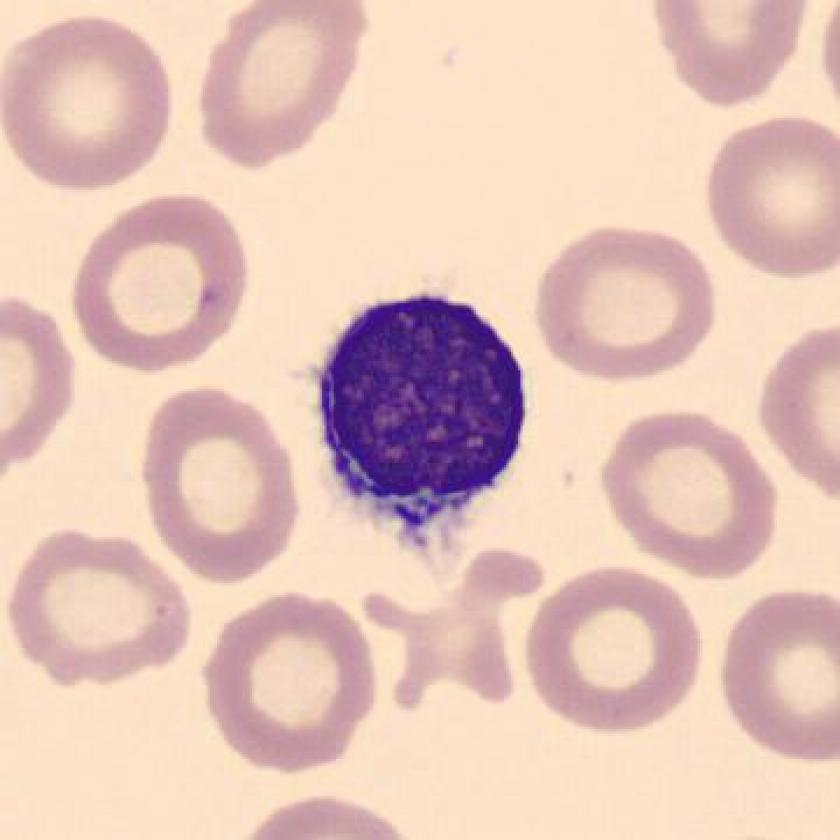lymphocyte: (300, 276, 547, 552)
